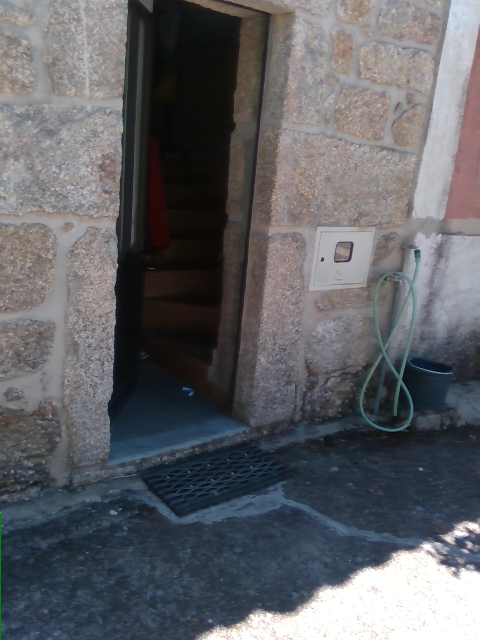open: (111, 2, 294, 416)
